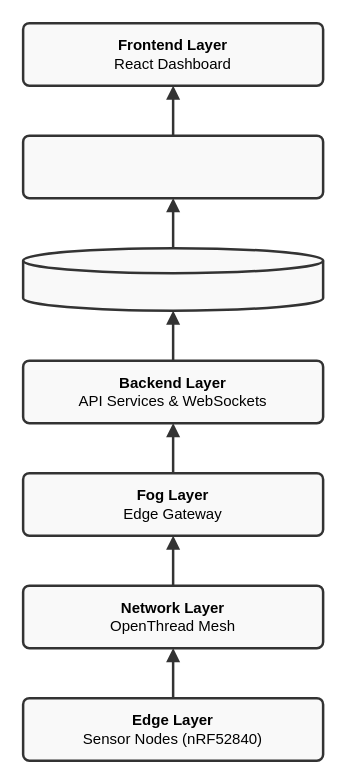
Image size: 345x783. Some labels were removed from this diagram. The box of each missing label's shape, as (x1, y1, x2, y2) in pixels:
Database Layer MongoDB Document Store: (21, 246, 324, 311)
Machine-Learning Layer Anomaly Detection & Forecasting: (21, 134, 324, 199)
